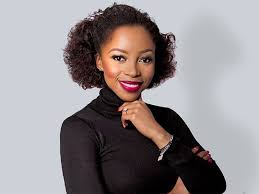black_female: (59, 1, 178, 112)
